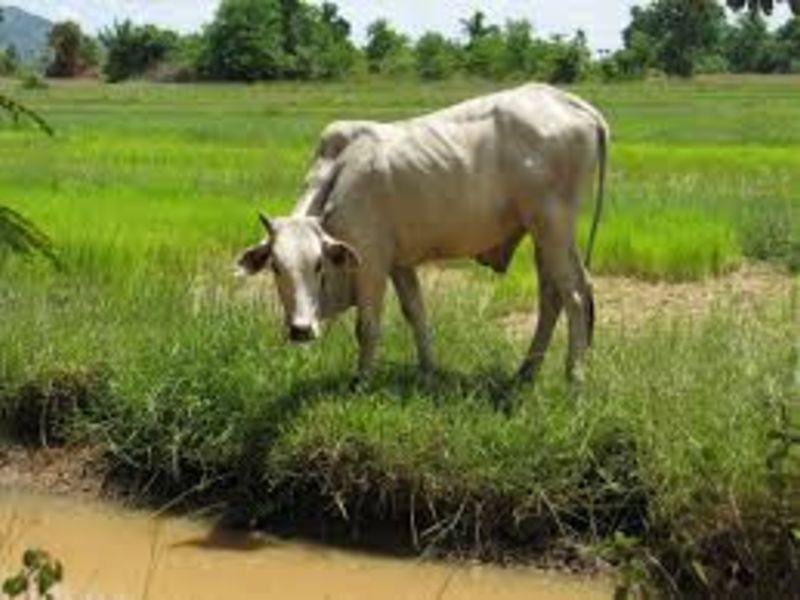cow: (232, 77, 641, 401)
